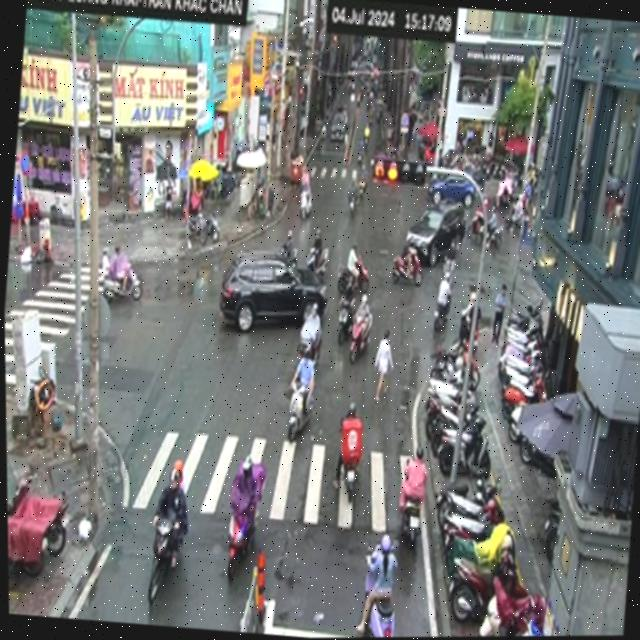Red: (367, 154, 429, 190)
